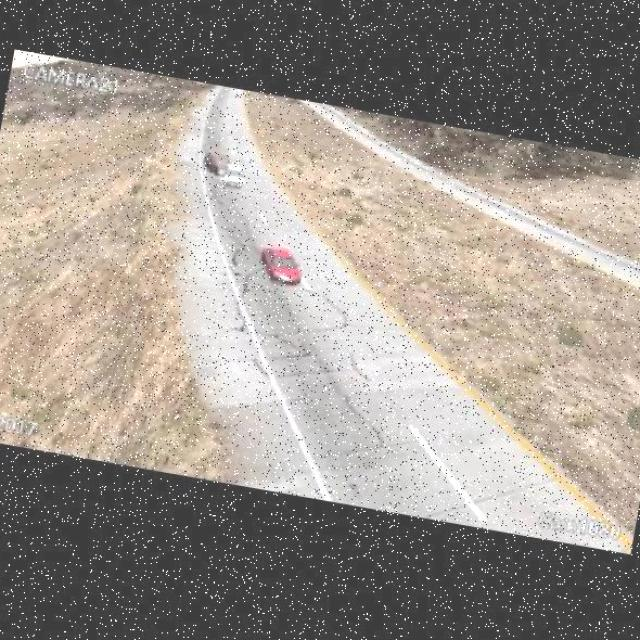accident: (206, 149, 251, 187)
